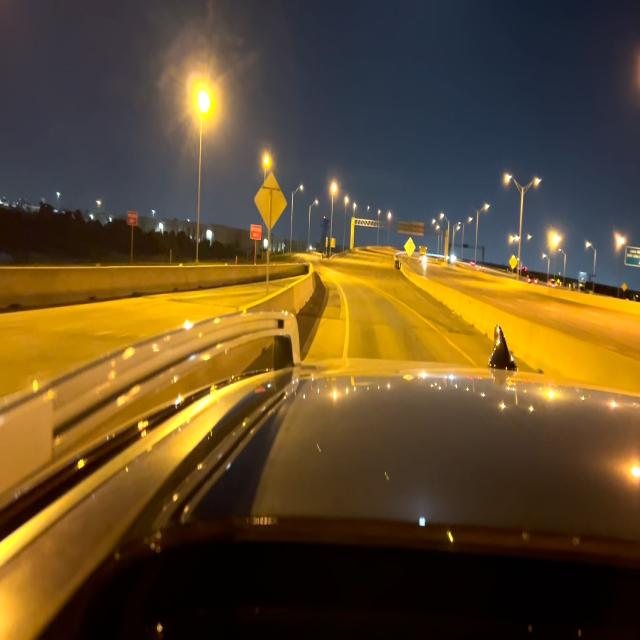back-of-sign: (255, 172, 288, 233)
